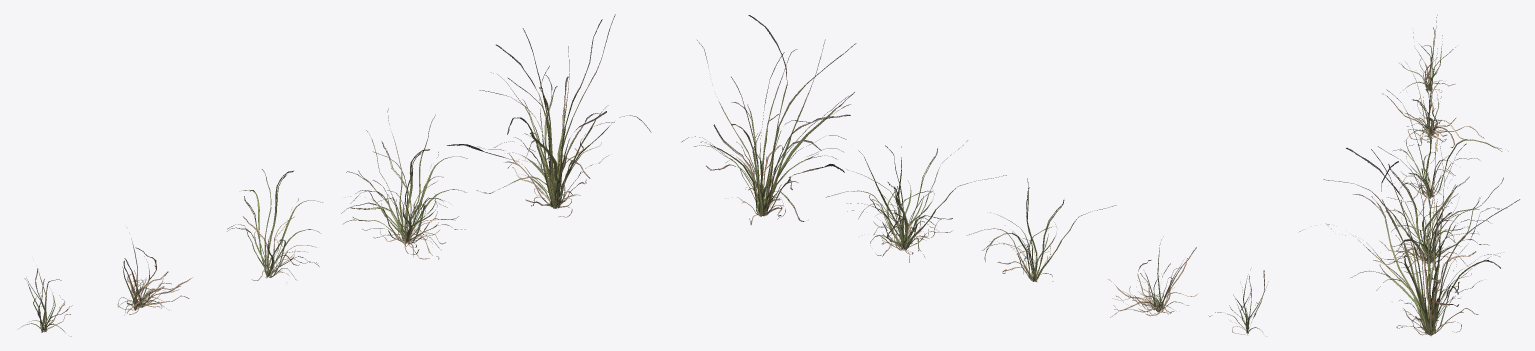
File: grass_medium_02.gltf
3 views of the same model, side by side, from view 1: azimuth 30°, elevation 25°; view 2: azimuth 150°, elevation 25°; view 3: azimuth 270°, elevation 25° (orthographic). The views are drawn at different scales.
Parts seen in each view (by area): view 1: grass_medium_02_e, grass_medium_02_d, grass_medium_02_c, grass_medium_02_b, grass_medium_02_a; view 2: grass_medium_02_e, grass_medium_02_d, grass_medium_02_c, grass_medium_02_b, grass_medium_02_a; view 3: grass_medium_02_e, grass_medium_02_d, grass_medium_02_c, grass_medium_02_b, grass_medium_02_a.
Part boxes in pixels (x1=…): grass_medium_02_e: x1=447, y1=14, x2=651, y2=217; grass_medium_02_d: x1=341, y1=109, x2=467, y2=259; grass_medium_02_c: x1=227, y1=169, x2=322, y2=280; grass_medium_02_b: x1=117, y1=238, x2=192, y2=315; grass_medium_02_a: x1=19, y1=268, x2=72, y2=336; grass_medium_02_e: x1=681, y1=15, x2=856, y2=224; grass_medium_02_d: x1=826, y1=140, x2=1006, y2=262; grass_medium_02_c: x1=967, y1=178, x2=1116, y2=281; grass_medium_02_b: x1=1108, y1=236, x2=1197, y2=317; grass_medium_02_a: x1=1209, y1=269, x2=1268, y2=334; grass_medium_02_e: x1=1299, y1=144, x2=1519, y2=335; grass_medium_02_d: x1=1323, y1=143, x2=1503, y2=274; grass_medium_02_c: x1=1386, y1=89, x2=1508, y2=215; grass_medium_02_b: x1=1382, y1=48, x2=1484, y2=151; grass_medium_02_a: x1=1399, y1=15, x2=1455, y2=92.
Bounding box in the file's own units: 1.31 × 0.4053 × 0.4332.
Materials: 1 (1 with a texture image).
